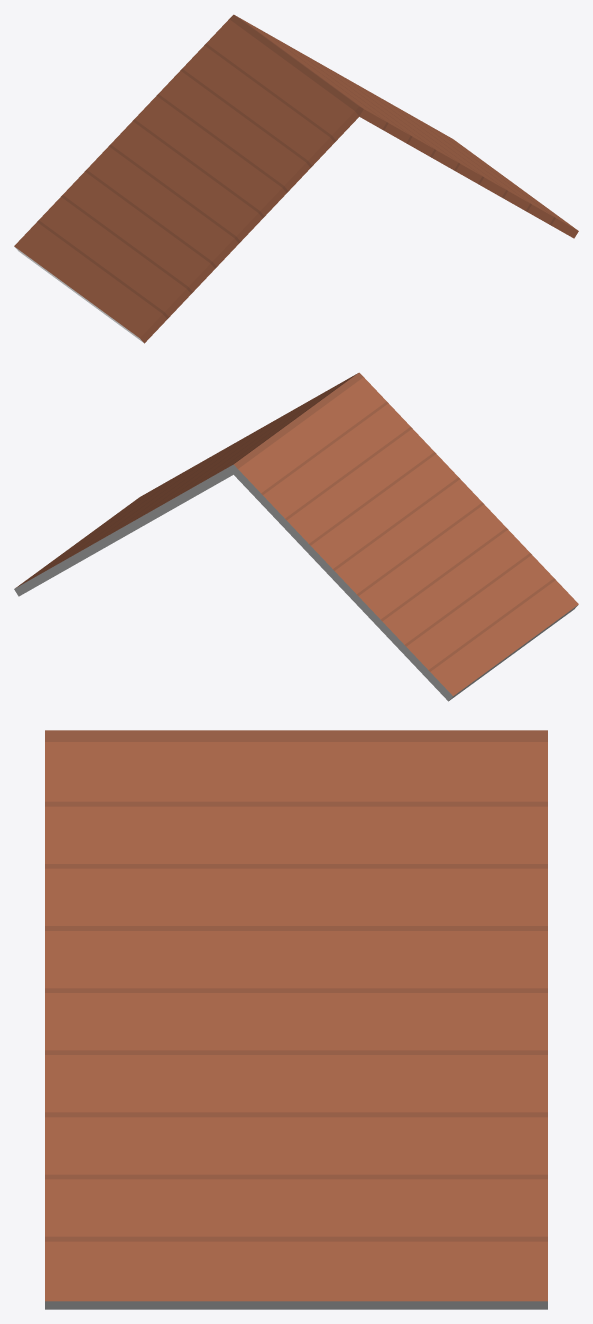
The model's file is Roof1_C5_03.fbx.
The picture shows the model from 3 angles, top to bottom: view 1: azimuth 30°, elevation 25°; view 2: azimuth 150°, elevation 25°; view 3: azimuth 270°, elevation 25°; orthographic projection. The views are drawn at different scales.
Parts seen in each view (by area): view 1: Roof1_C5_03; view 2: Roof1_C5_03; view 3: Roof1_C5_03.
Boxes of the visible parts, box(x1,y1,x2,y2) form: Roof1_C5_03: box(14, 14, 578, 343); Roof1_C5_03: box(14, 372, 578, 701); Roof1_C5_03: box(45, 730, 547, 1309).
Size of the model in its own units: 565 by 227 by 280.
